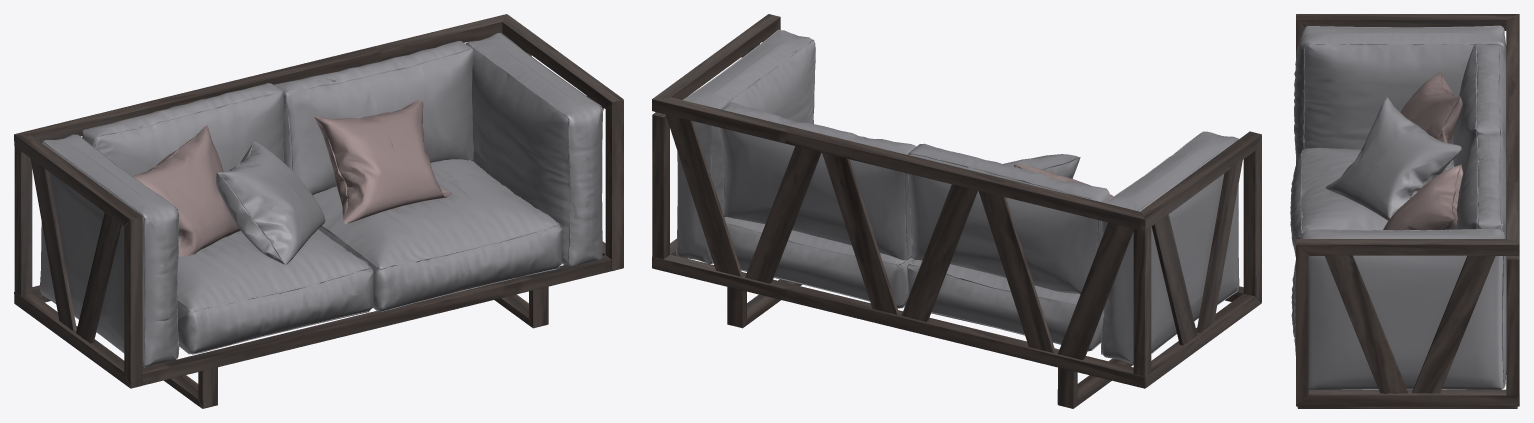
The model's file is raw_model.obj.
The picture shows the model from 3 angles, left to right: view 1: azimuth 30°, elevation 25°; view 2: azimuth 150°, elevation 25°; view 3: azimuth 270°, elevation 25°; orthographic projection. The views are drawn at different scales.
Parts seen in each view (by area): view 1: solid_001, solid_003, solid_002; view 2: solid_003, solid_001; view 3: solid_001, solid_003, solid_002.
Boxes of the visible parts, bbox=[...] form: solid_001: bbox=[39, 32, 602, 367]; solid_003: bbox=[14, 14, 623, 408]; solid_002: bbox=[132, 99, 451, 256]; solid_003: bbox=[652, 14, 1261, 408]; solid_001: bbox=[676, 29, 1239, 364]; solid_001: bbox=[1290, 25, 1506, 389]; solid_003: bbox=[1296, 14, 1519, 408]; solid_002: bbox=[1383, 72, 1463, 230].
Bounding box in the file's own units: 1.94 × 0.7909 × 0.8146.
Materials: 1 (1 with a texture image).
